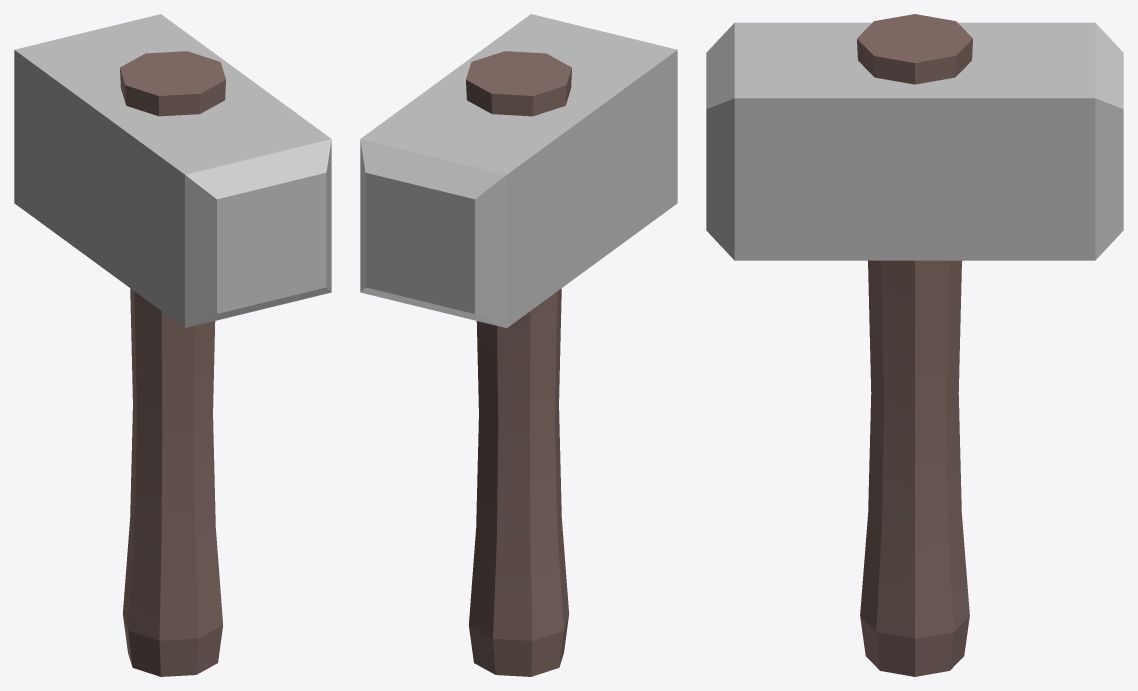
The model's file is SM_Hammer.fbx.
The picture shows the model from 3 angles, left to right: view 1: azimuth 30°, elevation 25°; view 2: azimuth 150°, elevation 25°; view 3: azimuth 270°, elevation 25°; orthographic projection. The views are drawn at different scales.
Visible parts, largest first — view 1: SM_Hammer; view 2: SM_Hammer; view 3: SM_Hammer.
Part boxes in pixels (box(x1,y1,x2,y2)): SM_Hammer: box(14, 14, 331, 676); SM_Hammer: box(360, 14, 677, 676); SM_Hammer: box(706, 14, 1123, 676).
Bounding box in the file's own units: 30.53 × 116 × 71.16.
